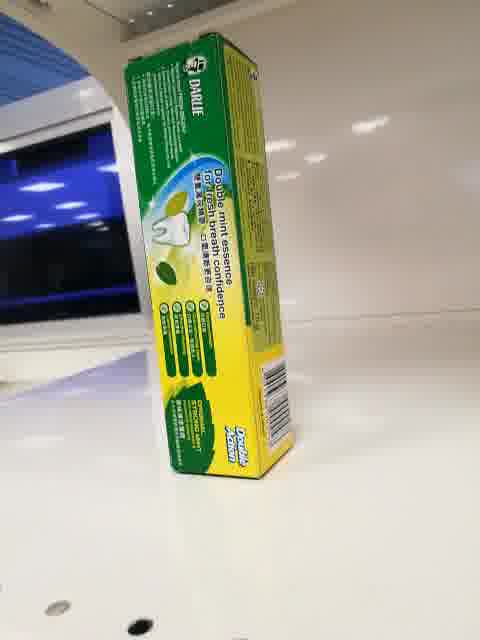toothpaste: (125, 32, 296, 479)
